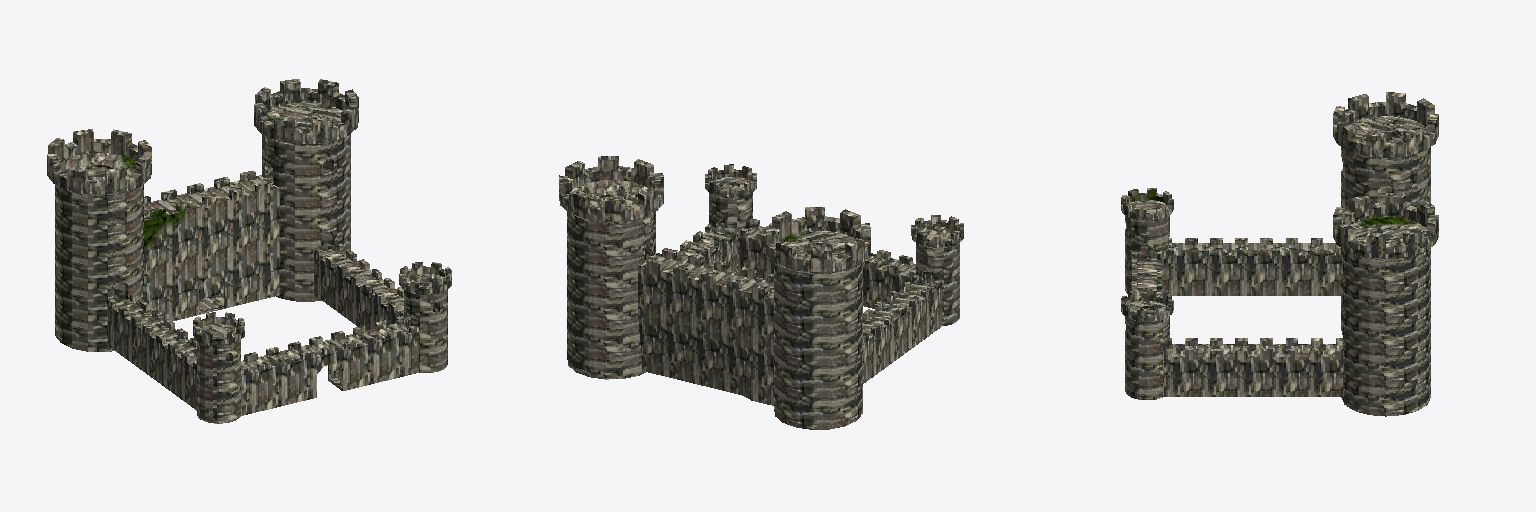
3 renders of one model, left to right at view 1: azimuth 30°, elevation 25°; view 2: azimuth 150°, elevation 25°; view 3: azimuth 270°, elevation 25°, orthographic.
Parts seen in each view (by area): view 1: 円柱; view 2: 円柱; view 3: 円柱.
Boxes of the visible parts, x1=… form: 円柱: x1=47, y1=79, x2=451, y2=423; 円柱: x1=559, y1=156, x2=963, y2=429; 円柱: x1=1121, y1=92, x2=1438, y2=416.
Size of the model in its own units: 23.14 by 13.49 by 21.36.
Materials: 1 (1 with a texture image).